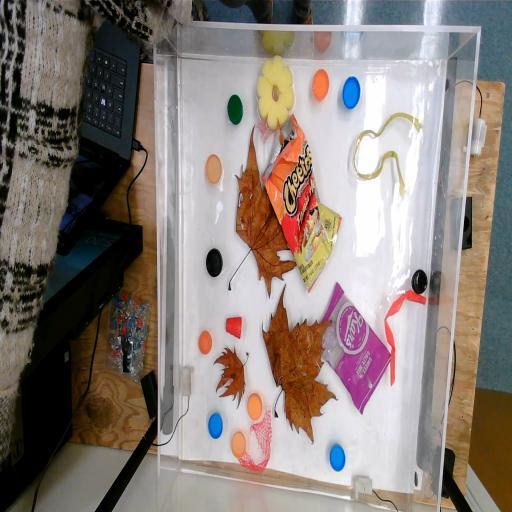Bottle Cap: (342, 74, 362, 110), (312, 68, 330, 102), (206, 248, 224, 278), (206, 153, 222, 185), (228, 94, 244, 126), (329, 443, 346, 473), (230, 430, 246, 460), (247, 392, 263, 422), (411, 268, 428, 296), (208, 411, 224, 439), (198, 330, 213, 356)
Cone Cap: (225, 316, 242, 340)
Leaf: (260, 282, 340, 446), (228, 122, 298, 300), (213, 344, 249, 412)
Netting: (238, 404, 272, 474), (256, 114, 278, 144)
Plastic Bag: (261, 112, 343, 296), (320, 282, 392, 416)
Plastic Strand: (352, 112, 422, 198), (384, 288, 426, 388)
Sponge: (256, 54, 296, 132)
